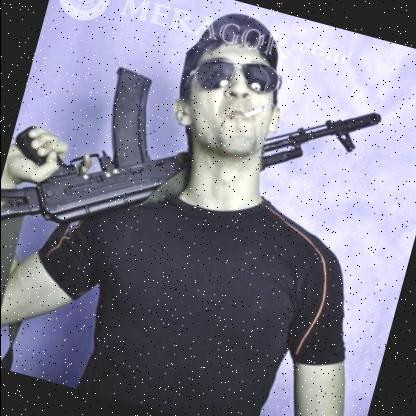rifle: (0, 0, 392, 330)
